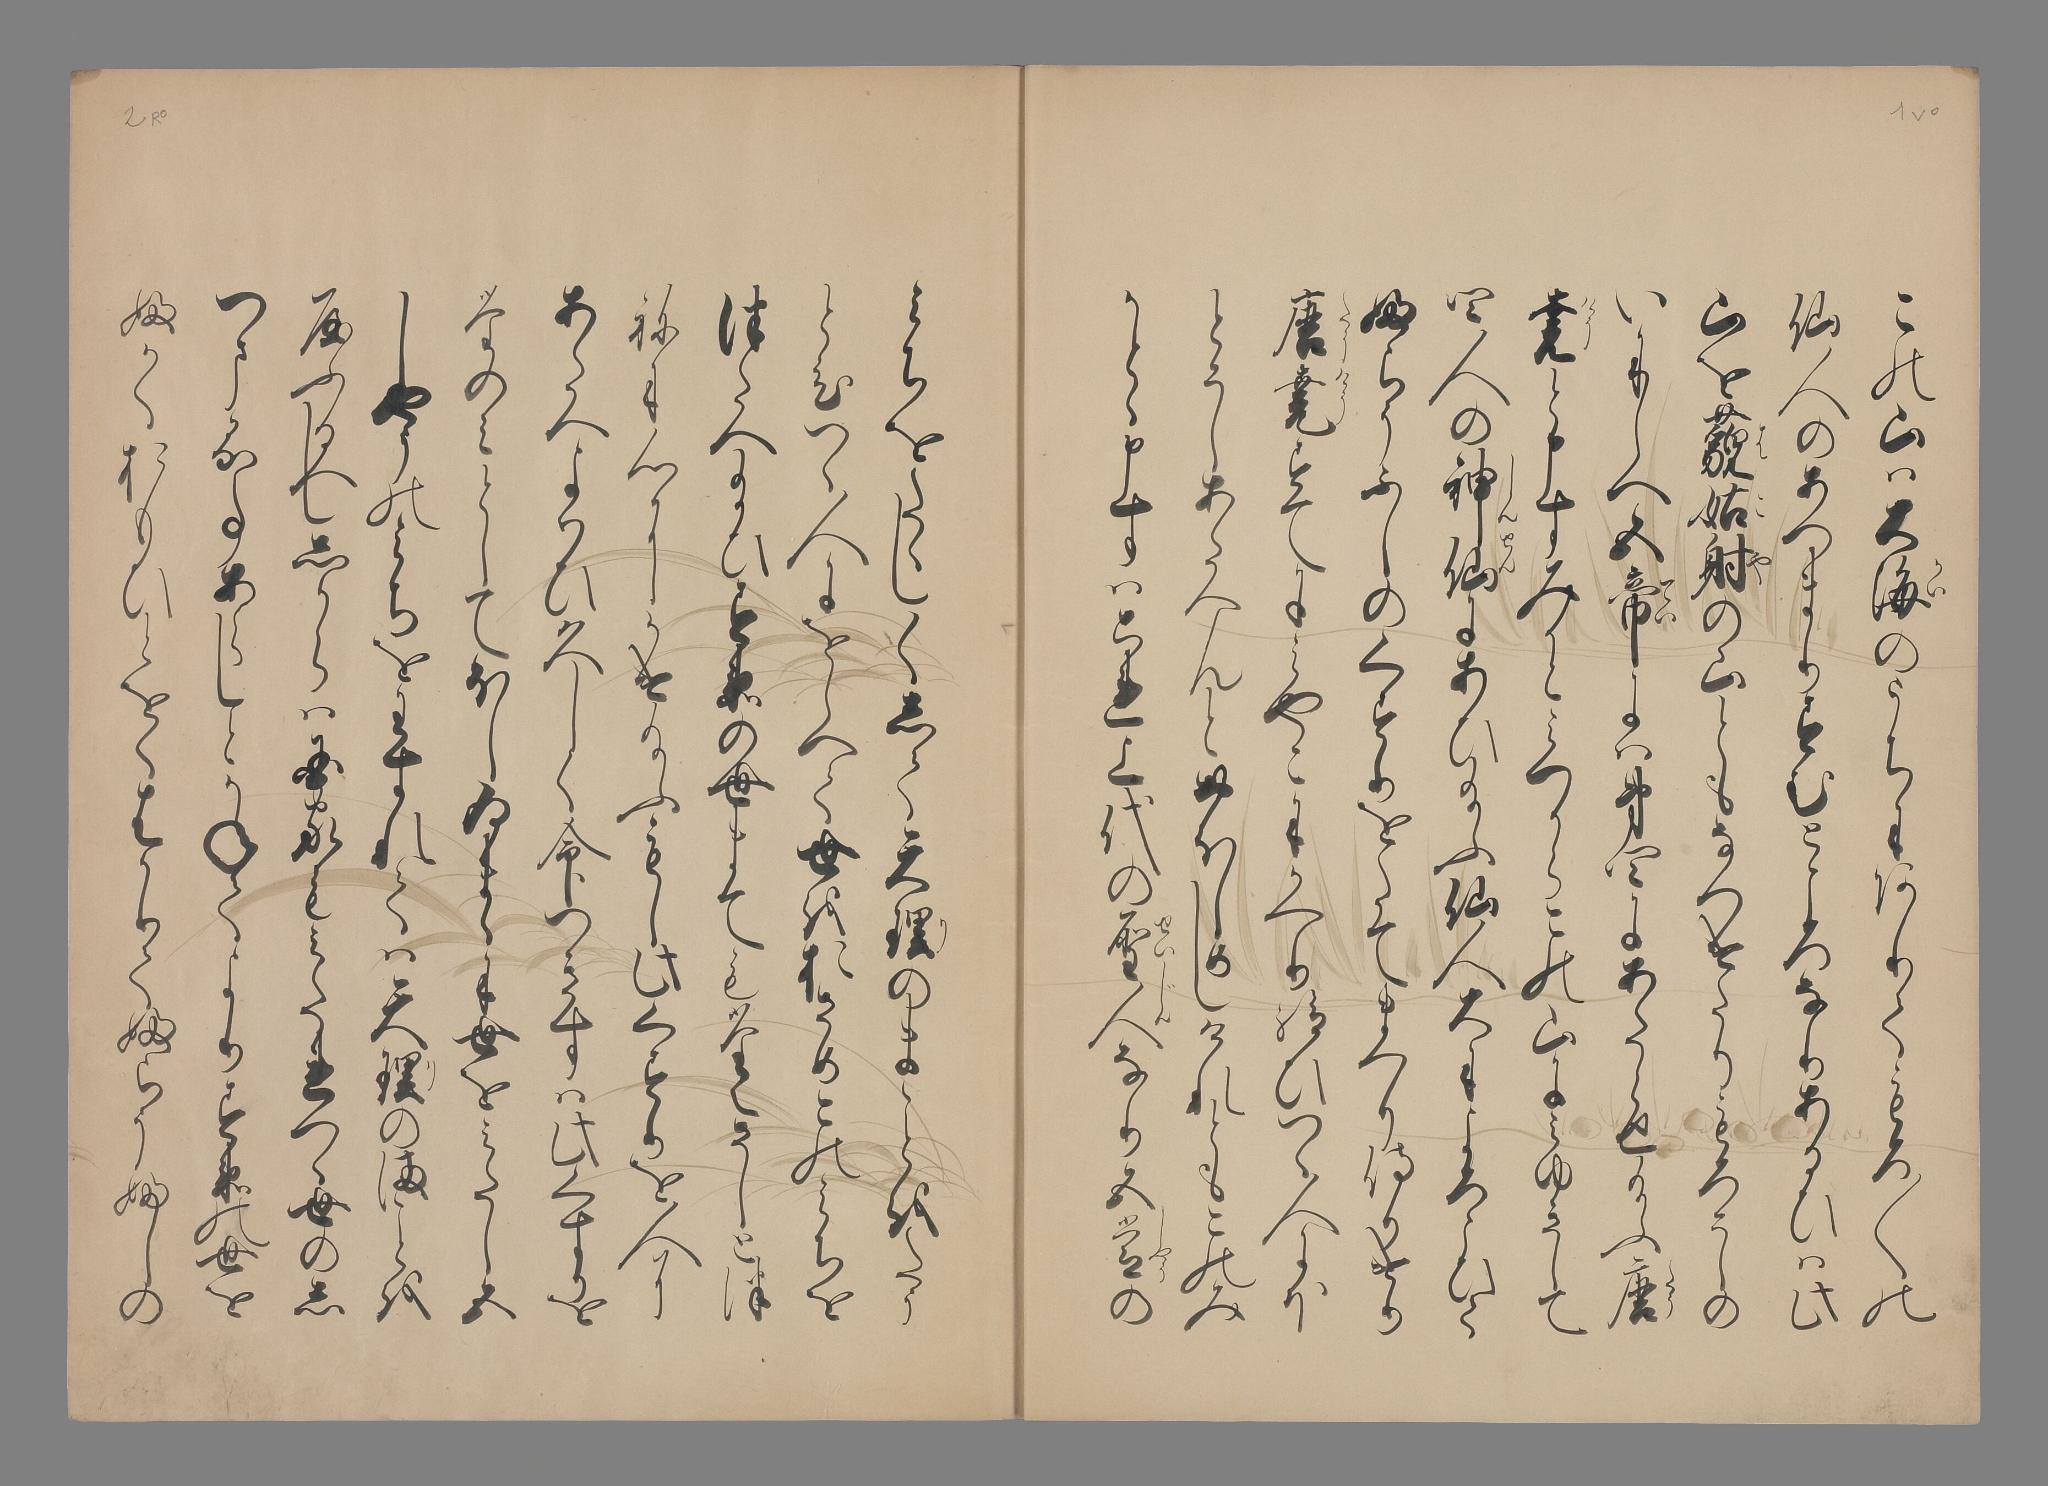MainZone-Character: (1515, 286, 1600, 372), (1682, 404, 1773, 480), (1264, 366, 1358, 439), (1084, 981, 1181, 1051), (1442, 448, 1528, 526), (1267, 289, 1356, 362), (1606, 569, 1681, 653), (1606, 1257, 1685, 1333), (1099, 906, 1180, 977), (1868, 553, 1953, 620), (1102, 1213, 1178, 1283), (1437, 534, 1520, 598), (1685, 537, 1776, 593), (1685, 483, 1773, 536), (878, 903, 956, 962), (375, 1046, 440, 1101)
MainZone-Ruby: (1495, 451, 1519, 521), (1658, 1259, 1684, 1322), (1151, 1217, 1177, 1278), (1652, 571, 1678, 631), (1151, 911, 1178, 963), (1926, 551, 1953, 602), (1331, 364, 1353, 423), (1150, 985, 1177, 1031), (1336, 296, 1355, 361), (1749, 410, 1770, 467), (1576, 289, 1595, 348), (932, 915, 959, 957), (417, 1054, 444, 1095), (1495, 534, 1517, 577), (1747, 548, 1773, 585), (1749, 488, 1773, 526)
